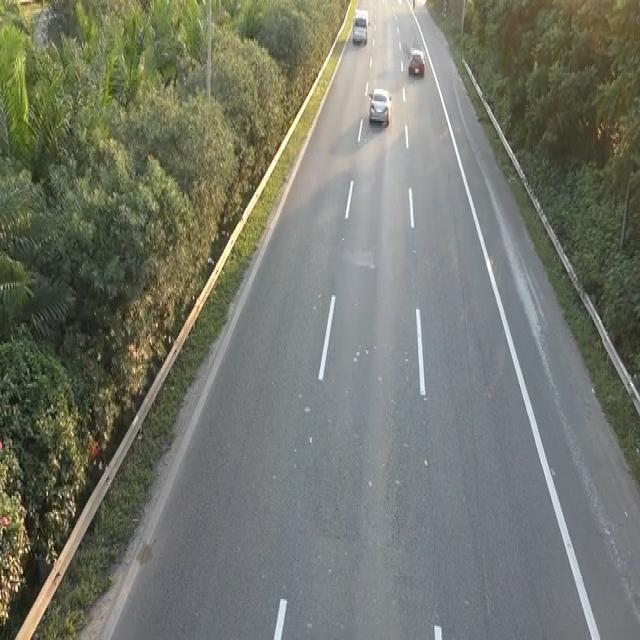bus: (366, 82, 395, 133), (407, 46, 425, 76)
jeep: (351, 9, 369, 44)
